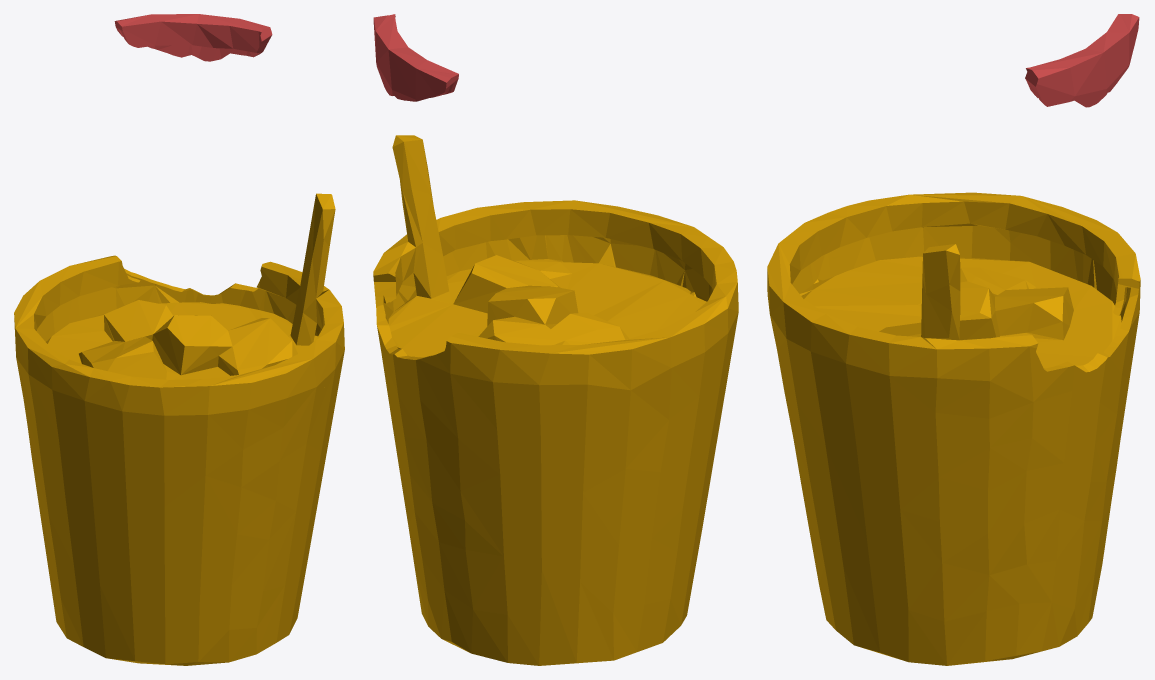
File: fractured_71_2pcs_transformed.glb
3 renders of one model, left to right at view 1: azimuth 30°, elevation 25°; view 2: azimuth 150°, elevation 25°; view 3: azimuth 270°, elevation 25°, orthographic. The views are drawn at different scales.
Parts seen in each view (by area): view 1: piece_0.obj, piece_1.obj; view 2: piece_0.obj, piece_1.obj; view 3: piece_0.obj, piece_1.obj.
Part boxes in pixels (x1,y1,x2,y2): piece_0.obj: (14,193,344,665); piece_1.obj: (114,14,272,61); piece_0.obj: (373,135,738,665); piece_1.obj: (373,14,458,101); piece_0.obj: (767,192,1140,665); piece_1.obj: (1025,14,1139,107).
Size of the model in its own units: 0.782 by 1.37 by 0.7671.
